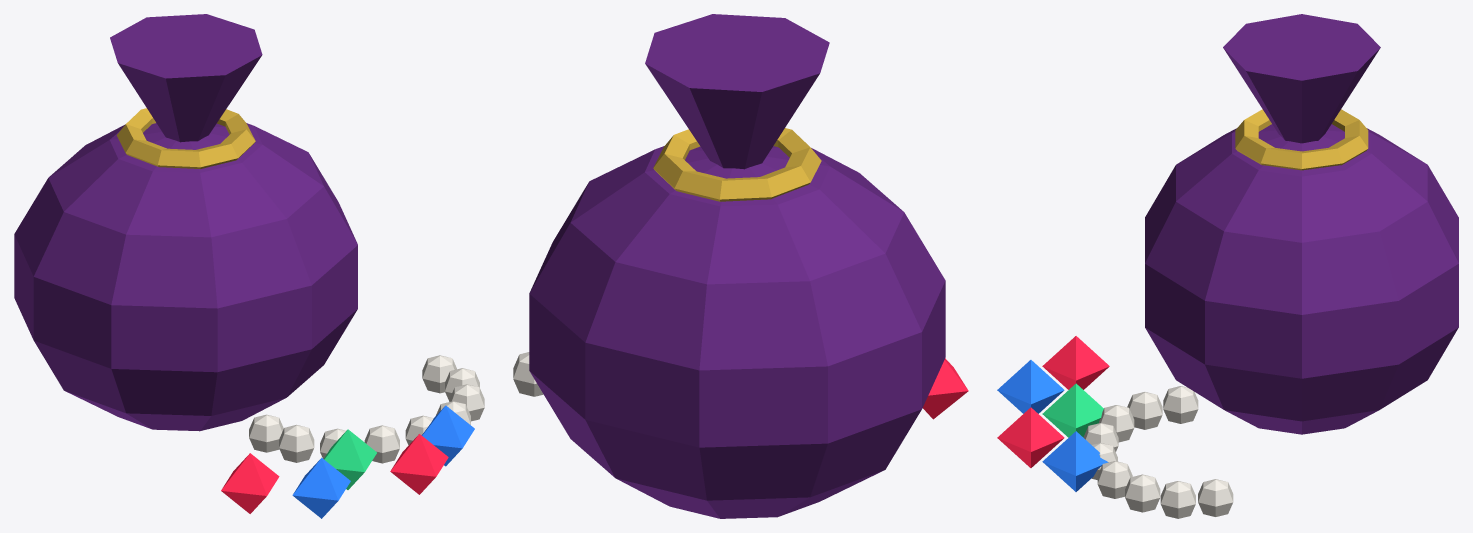
The model's file is jewel_sack.glb.
3 views of the same model, side by side, from view 1: azimuth 30°, elevation 25°; view 2: azimuth 150°, elevation 25°; view 3: azimuth 270°, elevation 25° (orthographic). The views are drawn at different scales.
Parts seen in each view (by area): view 1: sack_velvet, gems_pearl, cord_cord_gold, gems_gem_red, gems_gem_blue, gems_gem_green; view 2: sack_velvet, cord_cord_gold, gems_gem_red, gems_pearl; view 3: sack_velvet, gems_pearl, gems_gem_red, gems_gem_blue, cord_cord_gold, gems_gem_green.
Boxes of the visible parts, bbox=[...] form: sack_velvet: bbox=[14, 14, 357, 431]; gems_pearl: bbox=[249, 355, 484, 463]; cord_cord_gold: bbox=[116, 108, 255, 168]; gems_gem_red: bbox=[221, 434, 448, 513]; gems_gem_blue: bbox=[292, 405, 474, 518]; gems_gem_green: bbox=[324, 429, 376, 489]; sack_velvet: bbox=[529, 14, 945, 518]; cord_cord_gold: bbox=[653, 128, 821, 201]; gems_gem_red: bbox=[923, 358, 968, 419]; gems_pearl: bbox=[513, 352, 543, 396]; sack_velvet: bbox=[1145, 14, 1458, 434]; gems_pearl: bbox=[1083, 386, 1233, 518]; gems_gem_red: bbox=[997, 336, 1109, 467]; gems_gem_blue: bbox=[997, 360, 1108, 491]; cord_cord_gold: bbox=[1235, 109, 1368, 170]; gems_gem_green: bbox=[1042, 383, 1103, 437].
Size of the model in its own units: 0.3933 by 0.365 by 0.4091.
